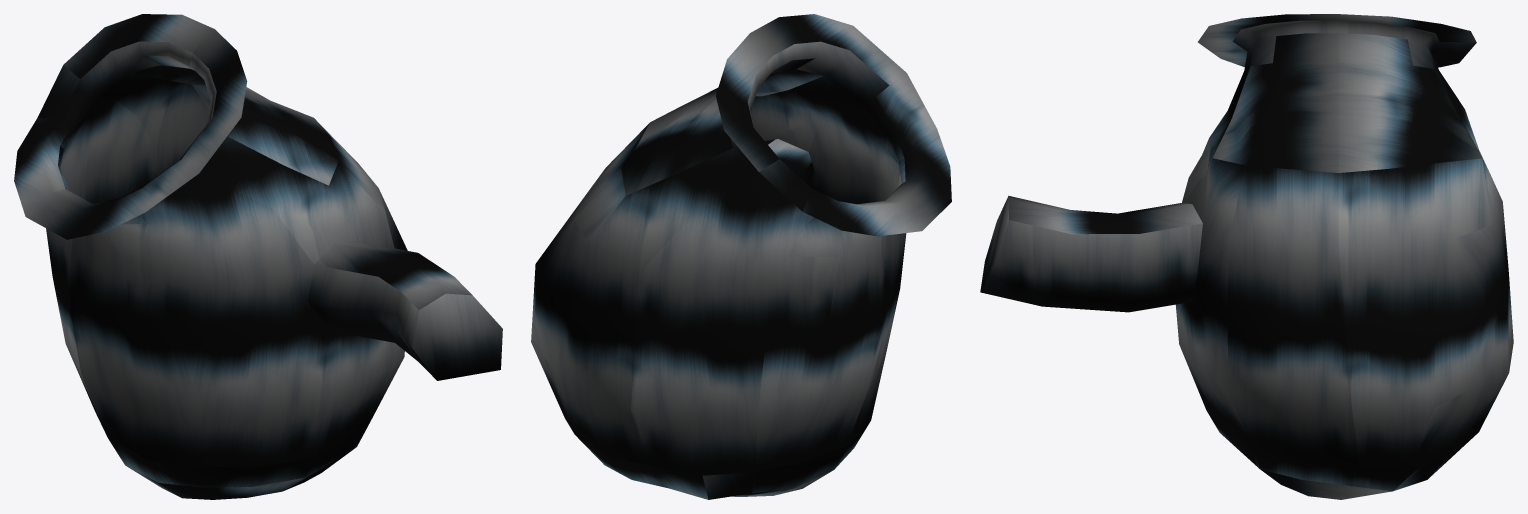
Rendered from background.fbx.
3 renders of one model, left to right at view 1: azimuth 30°, elevation 25°; view 2: azimuth 150°, elevation 25°; view 3: azimuth 270°, elevation 25°, orthographic.
Visible parts, largest first — view 1: Cube, Cube_008, Cube_001, Cube_003, Cube_004, Cube_009, Cube_007, Cube_006, Cube_005; view 2: Cube_009, Cube_007, Cube_004, Cube, Cube_003, Cube_006, Cube_008, Cube_001, Cube_005; view 3: Cube_007, Cube_008, Cube_001, Cube_004, Cube_003, Cube_005.
Part boxes in pixels (box(x1,y1,x2,y2)): Cube: box(70, 137, 331, 467); Cube_008: box(228, 91, 407, 456); Cube_001: box(308, 241, 502, 380); Cube_003: box(14, 14, 214, 216); Cube_004: box(26, 29, 247, 239); Cube_009: box(46, 94, 153, 435); Cube_007: box(100, 65, 268, 178); Cube_006: box(108, 438, 315, 499); Cube_005: box(284, 419, 371, 490); Cube_009: box(631, 173, 882, 475); Cube_007: box(531, 96, 759, 465); Cube_004: box(750, 14, 951, 230); Cube: box(789, 76, 906, 445); Cube_003: box(716, 33, 921, 236); Cube_006: box(650, 421, 870, 499); Cube_008: box(651, 69, 836, 151); Cube_001: box(765, 139, 818, 189); Cube_005: box(575, 435, 668, 488); Cube_007: box(1338, 62, 1513, 471); Cube_008: box(1175, 62, 1359, 467); Cube_001: box(980, 195, 1202, 312); Cube_004: box(1198, 14, 1339, 70); Cube_003: box(1336, 14, 1476, 70); Cube_005: box(1207, 411, 1477, 499).
Bounding box in the file's own units: 34.45 × 41.24 × 45.4.
